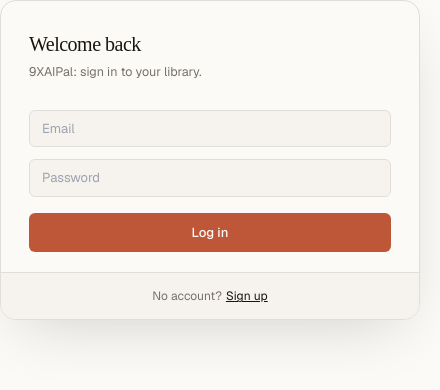
Test case: AuthForm › shows the server error after a failed login
Type "a@b.co" into the field with placeholder "Email" at (210, 129), box [29, 110, 391, 147]
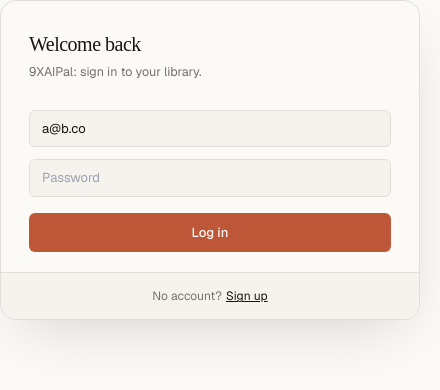
Type "wrongpass" into the password field with placeholder "Password" at (210, 178), box [29, 159, 391, 197]
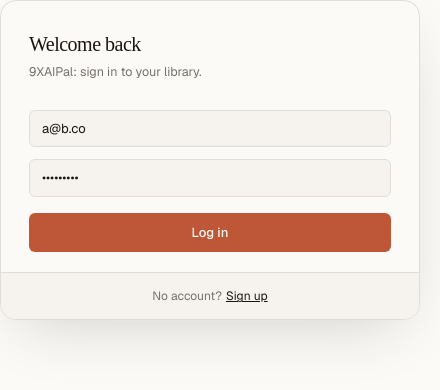
Click the button "Log in" at (210, 233), box [29, 213, 391, 252]
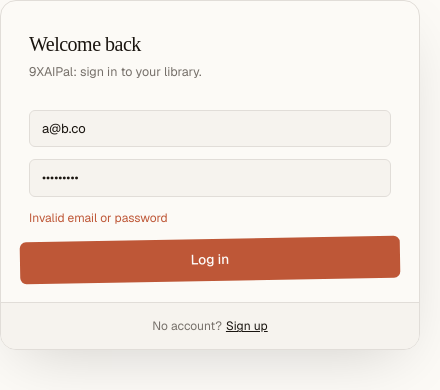
Expected: the message reads "Invalid email or password", [29, 210, 168, 226]
